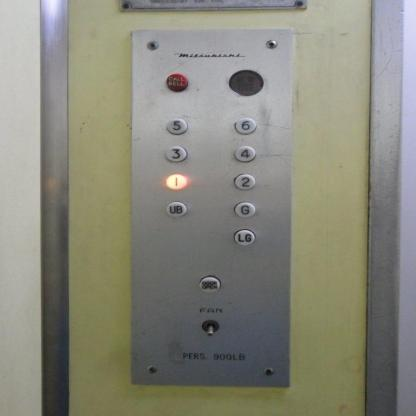1: (164, 172, 189, 191)
2: (232, 173, 256, 190)
3: (164, 145, 188, 163)
4: (234, 145, 256, 163)
5: (164, 117, 188, 135)
6: (233, 116, 256, 134)
G: (232, 200, 255, 218)
LG: (232, 228, 255, 246)
UB: (165, 200, 187, 218)
switch: (198, 318, 220, 337)
text_call bell: (164, 72, 189, 93)
text_door open: (197, 274, 222, 293)
text_overweight: (226, 68, 265, 97)
